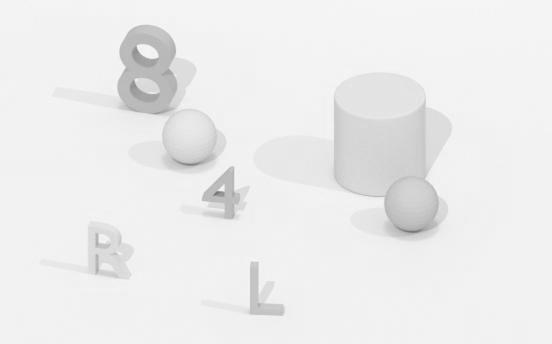chu_khoi: (87, 222, 133, 278), (249, 261, 284, 315)
hinh_cau: (162, 109, 216, 164), (384, 176, 438, 231)
so_khoi: (117, 25, 178, 113), (202, 167, 239, 217)
tru: (333, 73, 425, 195)
